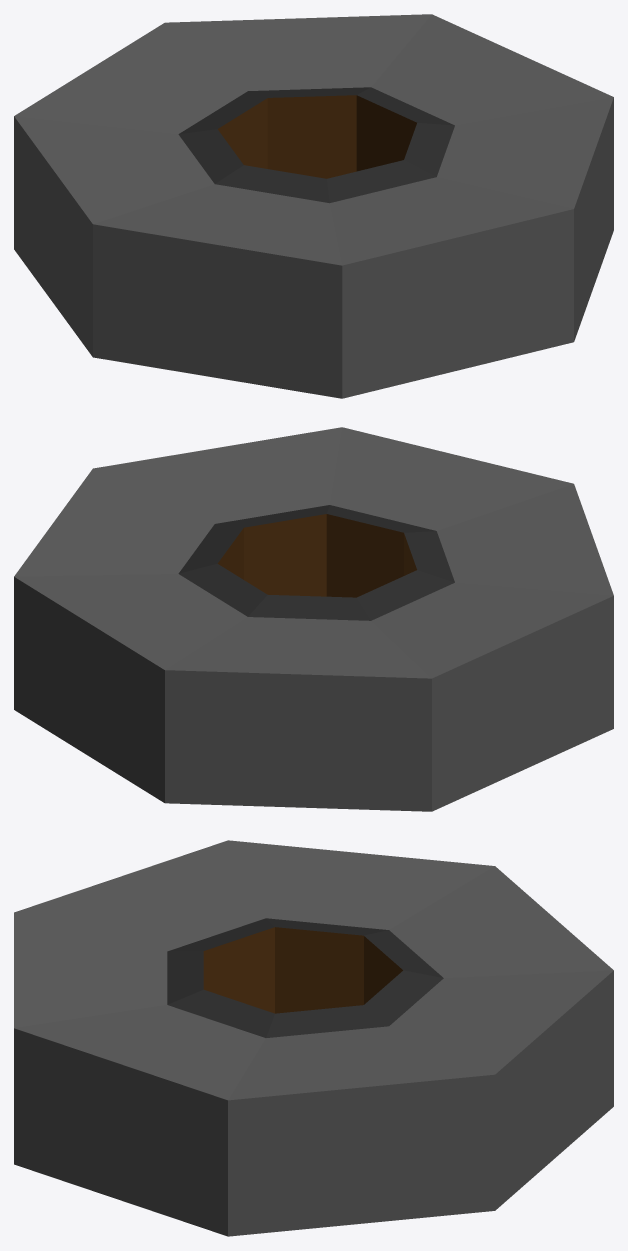
Rendered from DuctTapeModel.glb.
3 views of the same model, one above another, from view 1: azimuth 30°, elevation 25°; view 2: azimuth 150°, elevation 25°; view 3: azimuth 270°, elevation 25° (orthographic). The views are drawn at different scales.
Parts seen in each view (by area): view 1: Tape; view 2: Tape; view 3: Tape.
Boxes of the visible parts, left/top/right/bottom form: Tape: left=14, top=14, right=613, bottom=398; Tape: left=14, top=427, right=613, bottom=811; Tape: left=14, top=840, right=613, bottom=1236.
Bounding box in the file's own units: 0.5429 × 0.1326 × 0.5293.
